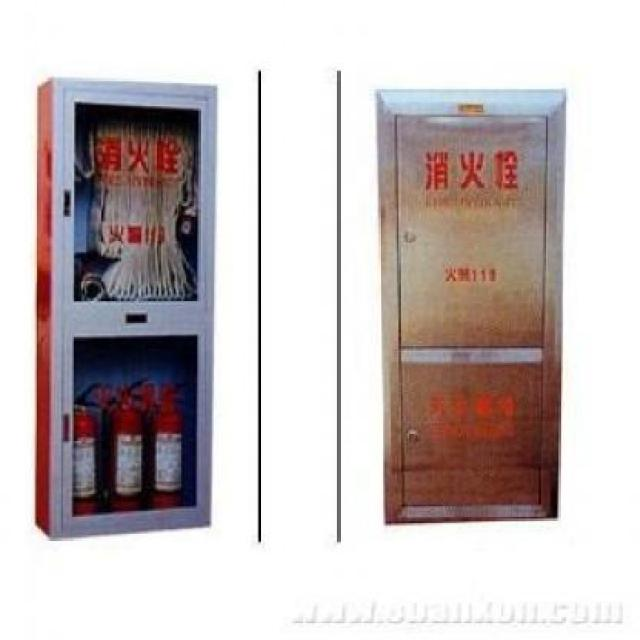firehydrant: (29, 72, 222, 544), (371, 83, 570, 532)
